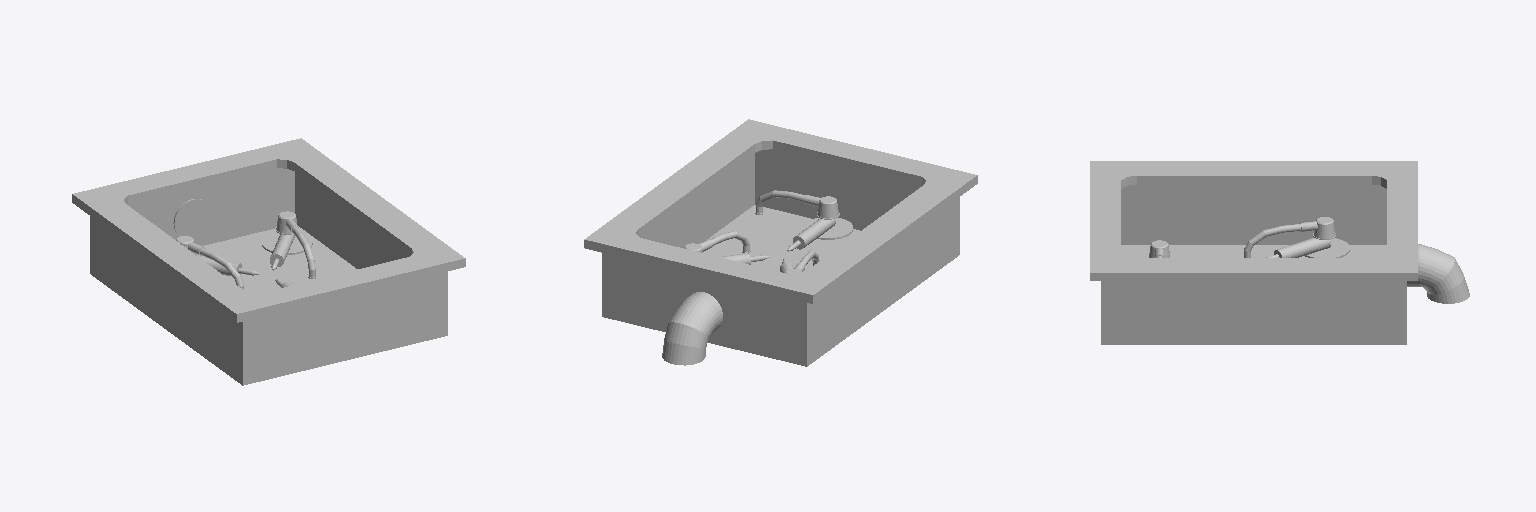
The model's file is fluxcapacitor.obj.
3 views of the same model, side by side, from view 1: azimuth 30°, elevation 25°; view 2: azimuth 150°, elevation 25°; view 3: azimuth 270°, elevation 25° (orthographic).
Parts seen in each view (by area): view 1: FluxCapacitor.001_Cylinder.007; view 2: FluxCapacitor.001_Cylinder.007; view 3: FluxCapacitor.001_Cylinder.007.
Boxes of the visible parts, x1,y1,x2,y2 form: FluxCapacitor.001_Cylinder.007: [72, 138, 465, 385]; FluxCapacitor.001_Cylinder.007: [584, 119, 977, 366]; FluxCapacitor.001_Cylinder.007: [1090, 161, 1469, 344].
Bounding box in the file's own units: 8.03 × 2.63 × 11.54.